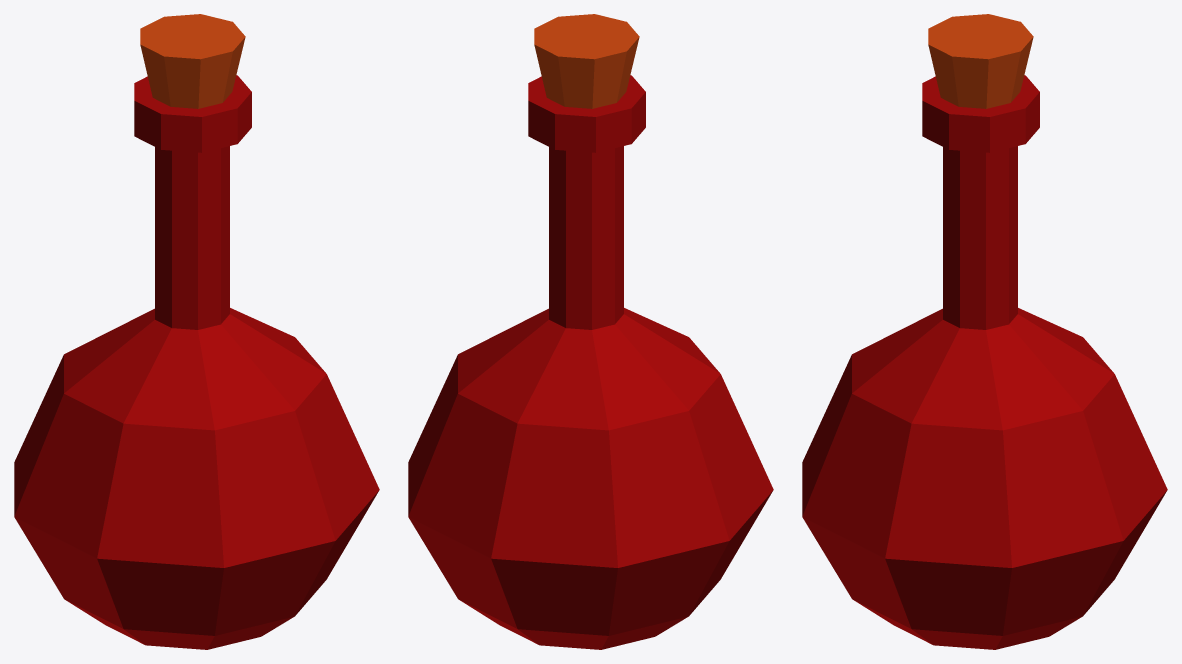
Rendered from potion.fbx.
3 views of the same model, side by side, from view 1: azimuth 30°, elevation 25°; view 2: azimuth 150°, elevation 25°; view 3: azimuth 270°, elevation 25° (orthographic).
Parts seen in each view (by area): view 1: Cylinder; view 2: Cylinder; view 3: Cylinder.
Part boxes in pixels (box(x1,y1,x2,y2)): Cylinder: box(14, 14, 379, 649); Cylinder: box(408, 14, 773, 649); Cylinder: box(802, 14, 1167, 649).
Size of the model in its own units: 11.17 by 11 by 19.1.
